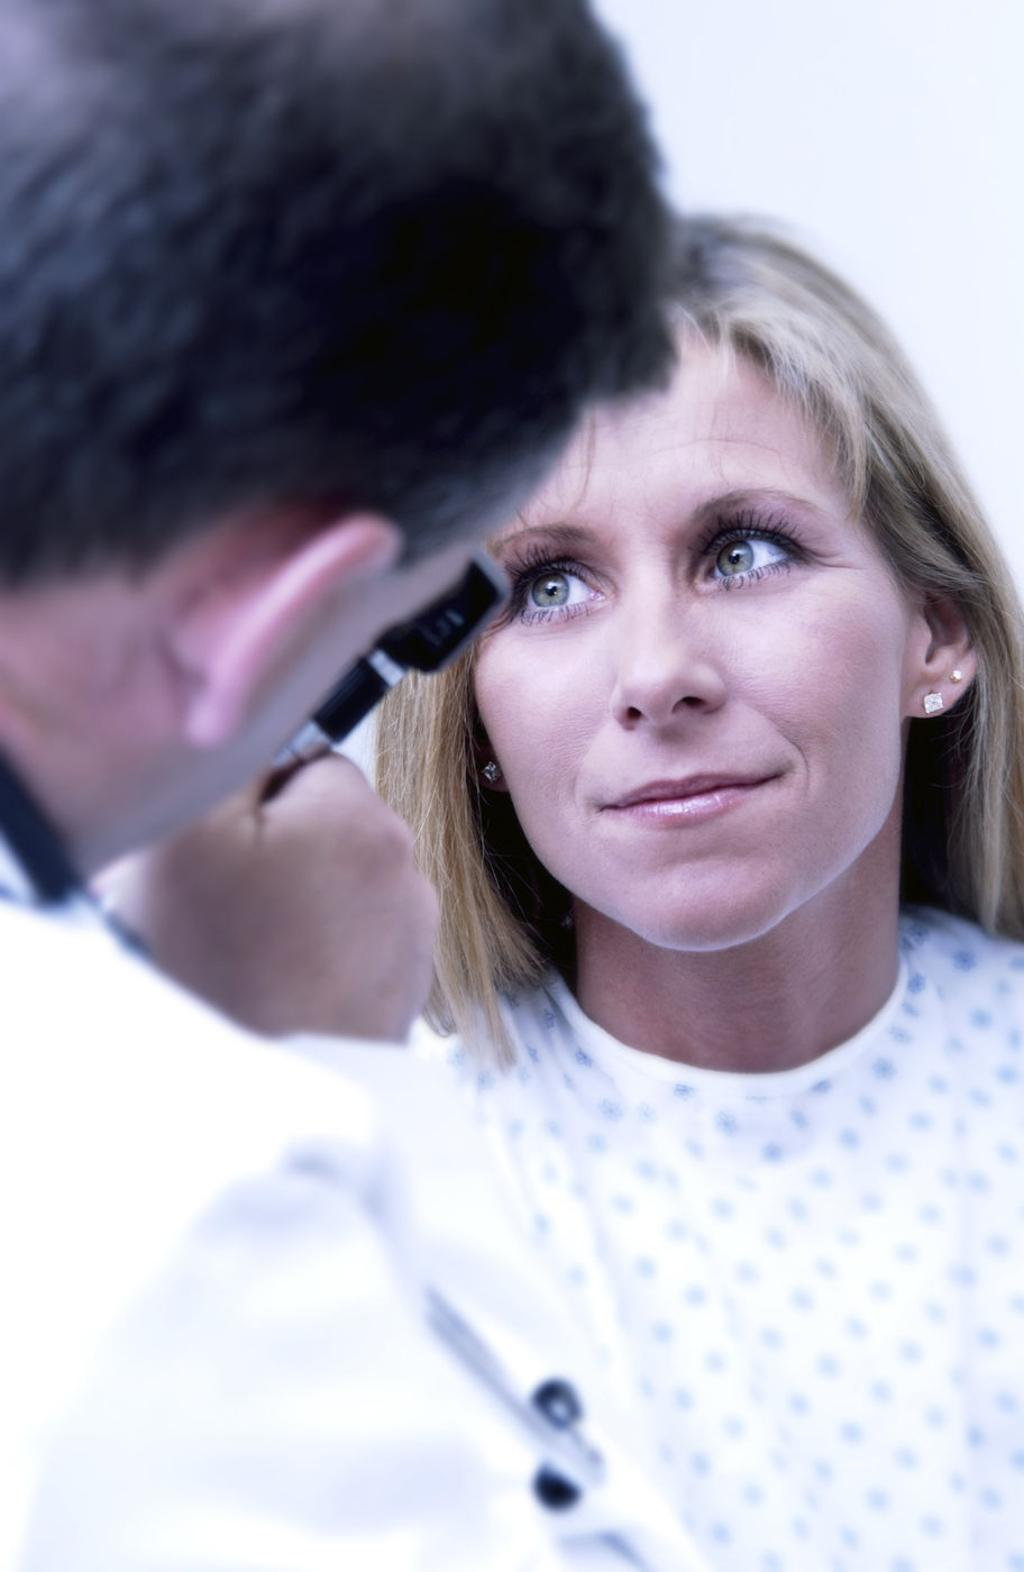face: (478, 365, 901, 941)
